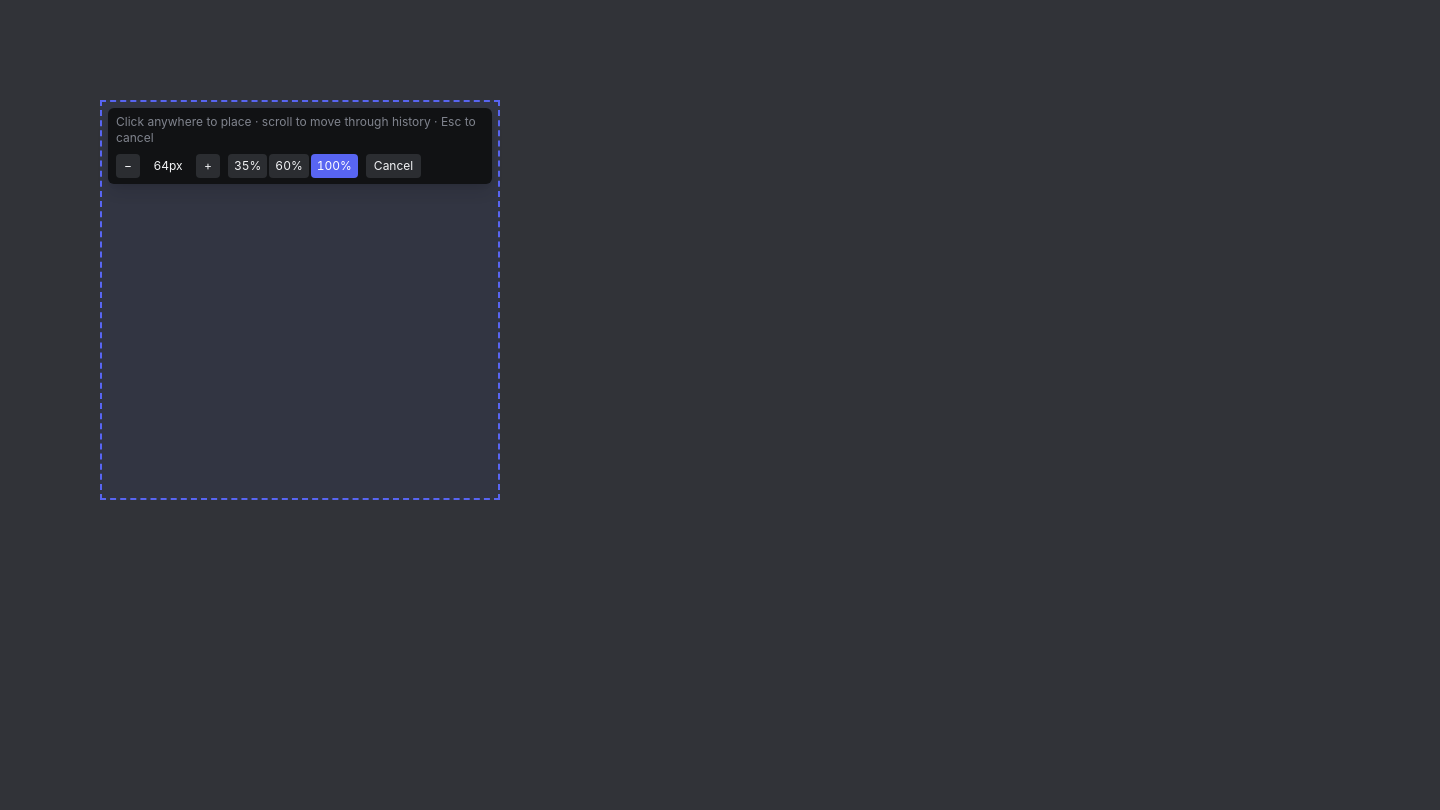
Test: PlaceDecoration › shows the server's error and stays open
Click the dialog named "Place pixel art in chat".
click(300, 300)  # box [100,100,500,500]
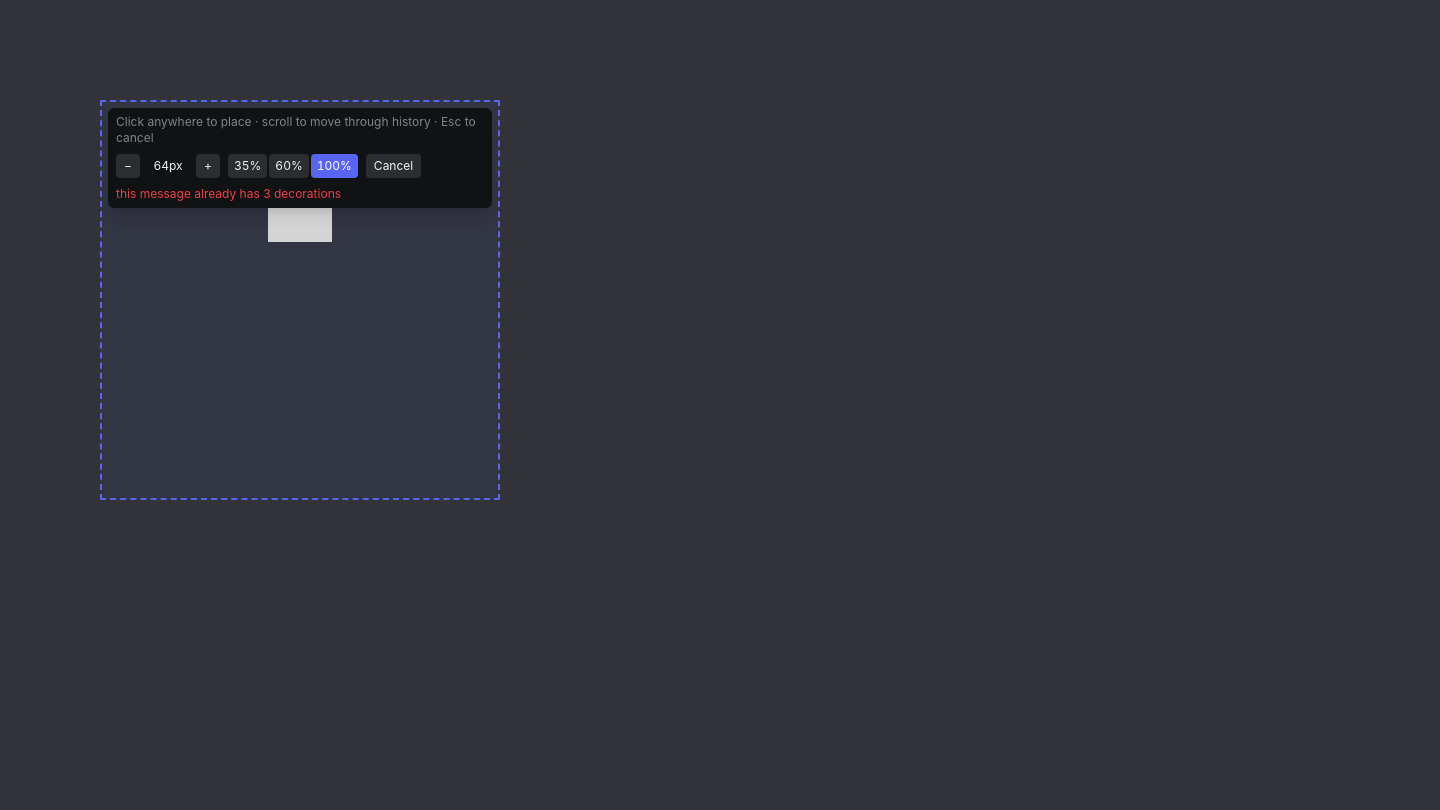
Expected: the text "this message already has 3 decorations" is shown, [116,186,341,202]
